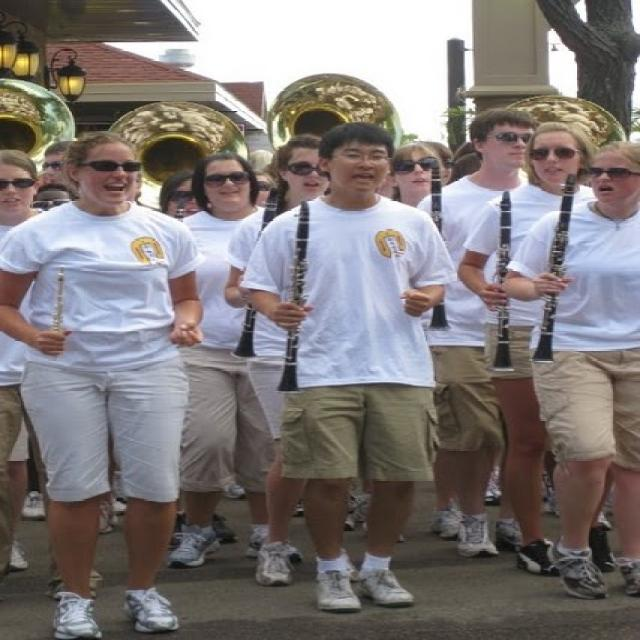clarinet: (527, 169, 577, 367), (272, 195, 319, 402), (229, 189, 283, 361), (487, 188, 519, 373), (421, 158, 453, 332)
